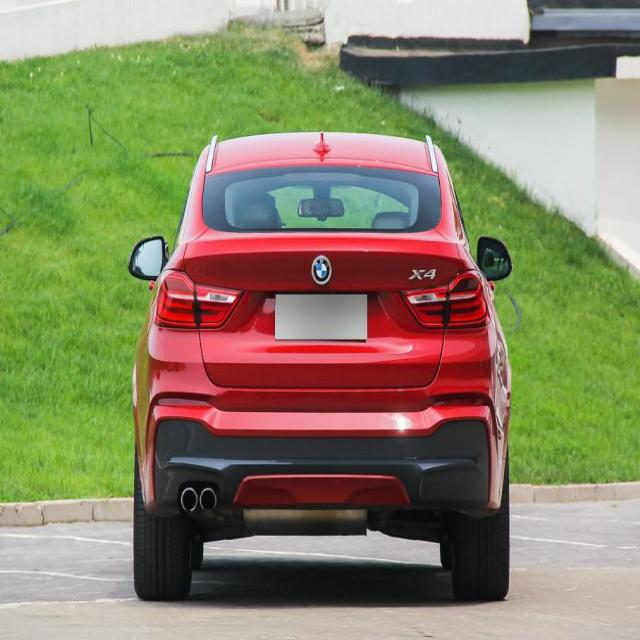back_glass: (201, 162, 445, 238)
back_left_side_light: (149, 267, 246, 336)
back_right_side_light: (398, 267, 493, 332)
front_left_side_mirror: (126, 233, 174, 284)
front_right_side_mirror: (474, 232, 514, 283)
rear_bumper: (130, 323, 506, 524)
